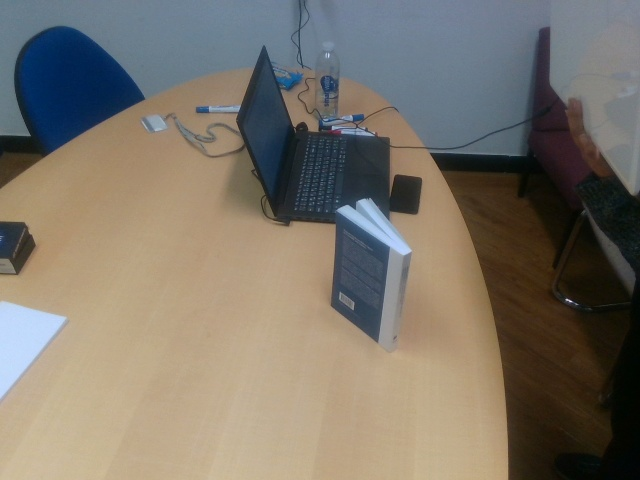book: (330, 198, 412, 343)
